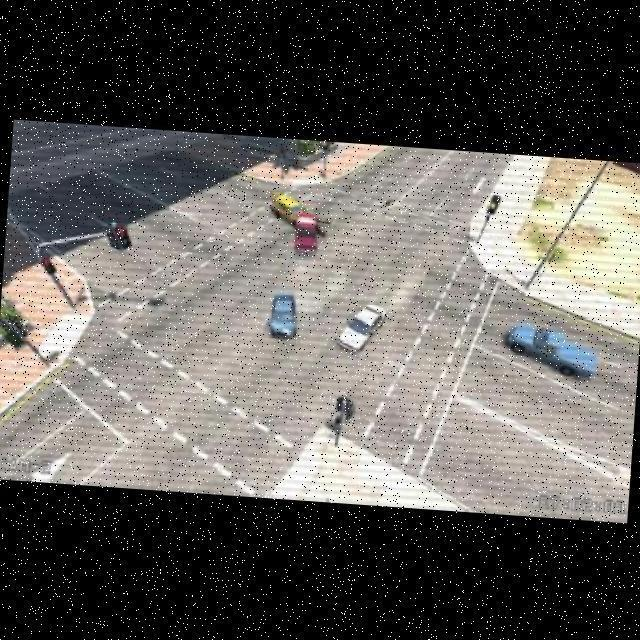accident: (266, 190, 326, 260)
